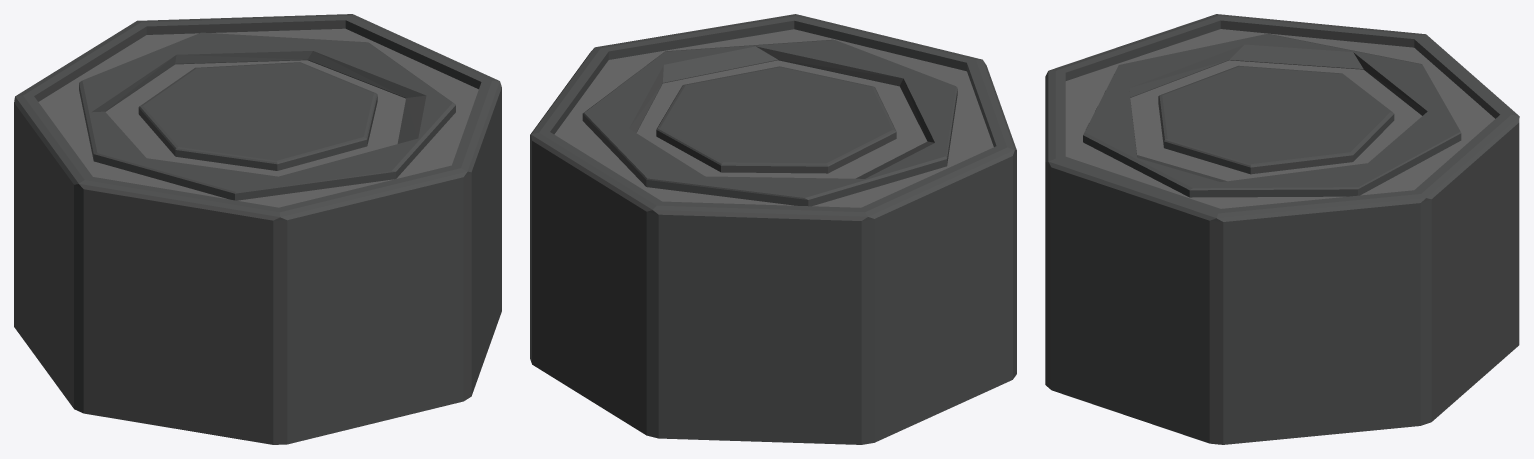
The model's file is stone_wall.fbx.
3 views of the same model, side by side, from view 1: azimuth 30°, elevation 25°; view 2: azimuth 150°, elevation 25°; view 3: azimuth 270°, elevation 25° (orthographic).
Parts seen in each view (by area): view 1: stone_wall_body; view 2: stone_wall_body; view 3: stone_wall_body.
Part boxes in pixels (bbox=[...]): stone_wall_body: bbox=[14, 14, 501, 444]; stone_wall_body: bbox=[530, 14, 1016, 444]; stone_wall_body: bbox=[1045, 14, 1519, 444].
Size of the model in its own units: 3.87 by 2 by 3.78.
Materials: 1 (1 with a texture image).
